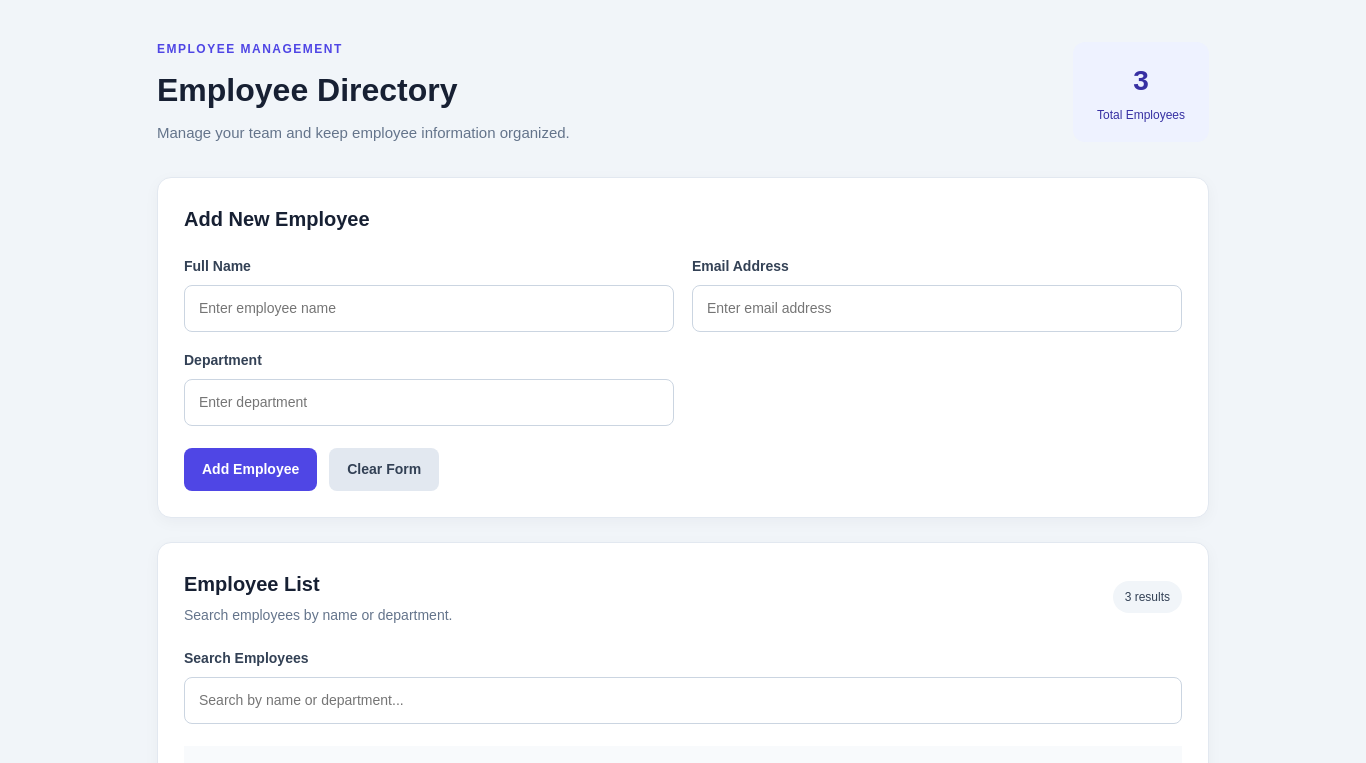
Test: Employee Management Application › shows an error for an invalid email address
The width and height of the screenshot is (1366, 763).
Type "Amit Kumar" into the field labelled "Full Name".
click(429, 308); type("Amit Kumar")  # box x1=184 y1=284 x2=674 y2=332
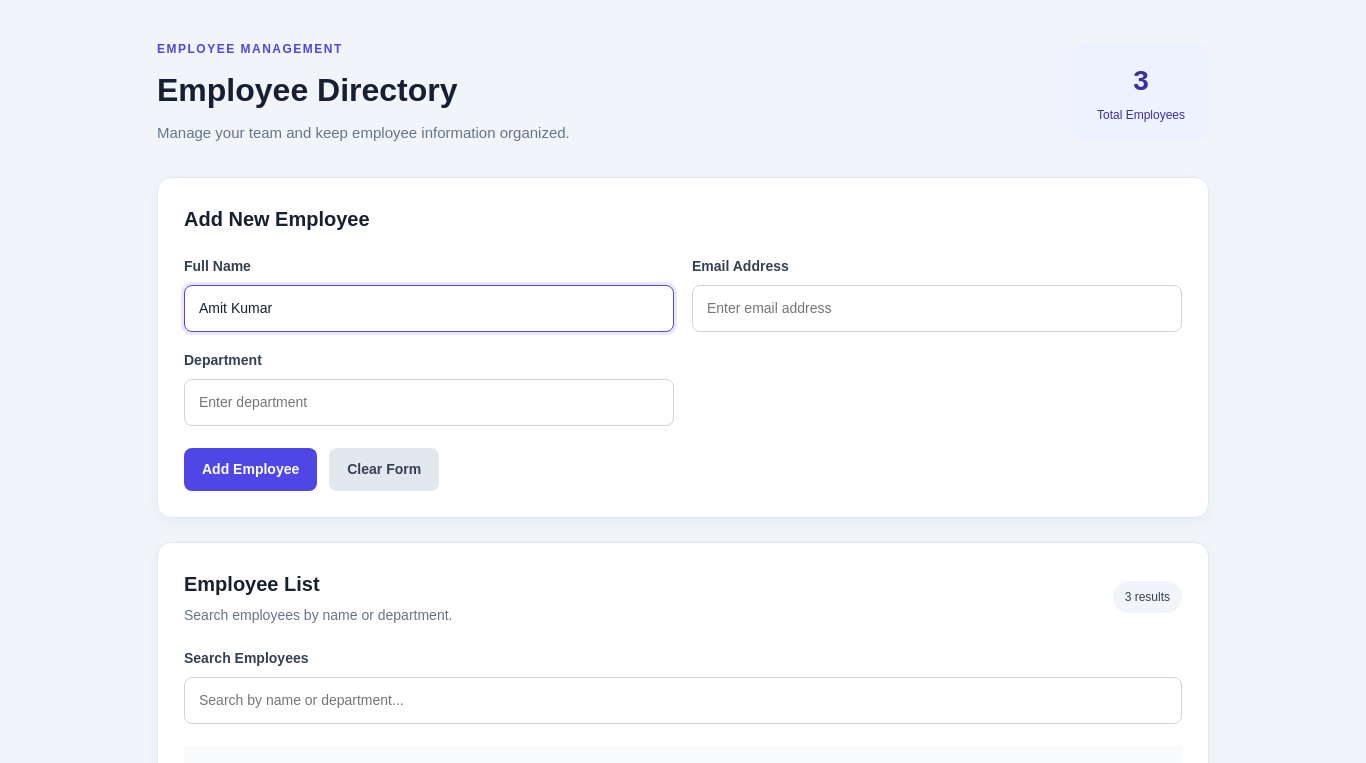
Type "invalid-email" into the field labelled "Email Address".
click(937, 308); type("invalid-email")  # box x1=692 y1=284 x2=1182 y2=332
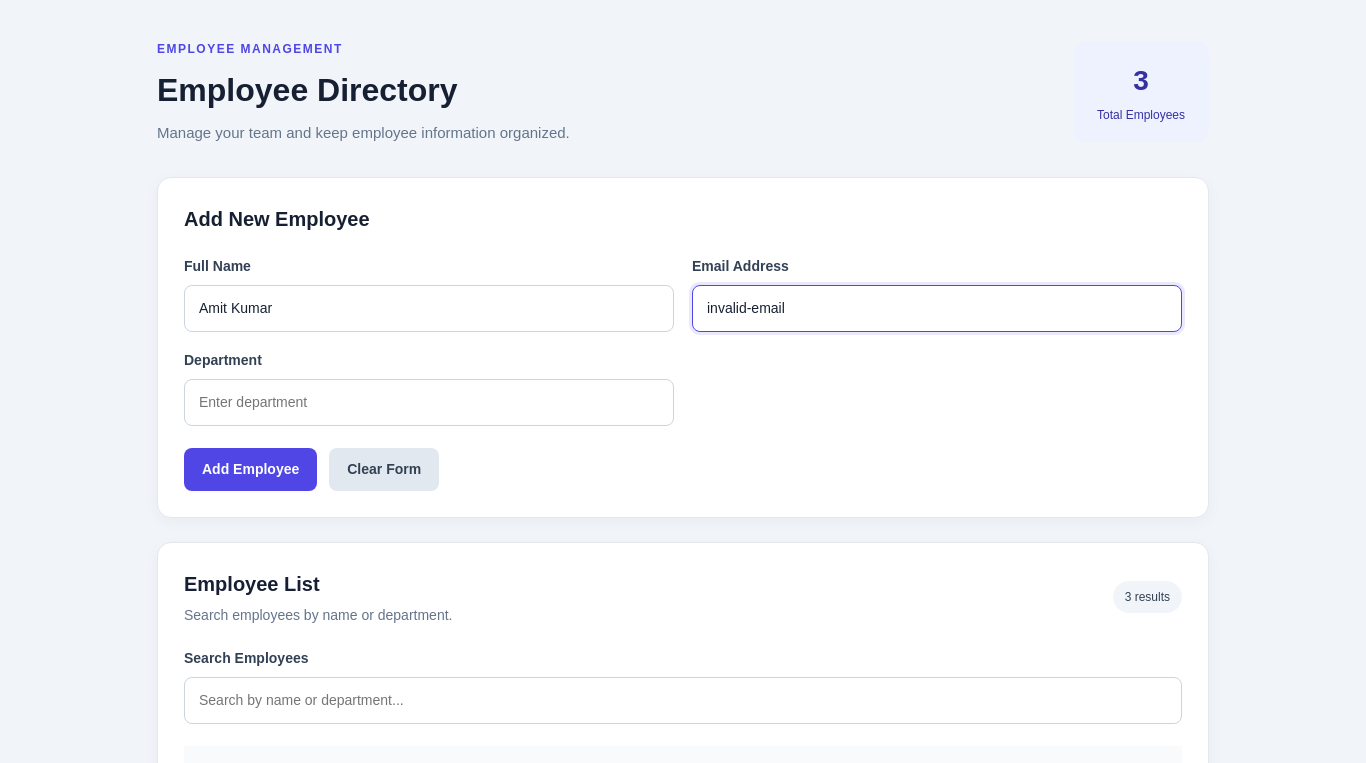
Type "Engineering" into the field labelled "Department".
click(429, 402); type("Engineering")  # box x1=184 y1=378 x2=674 y2=426
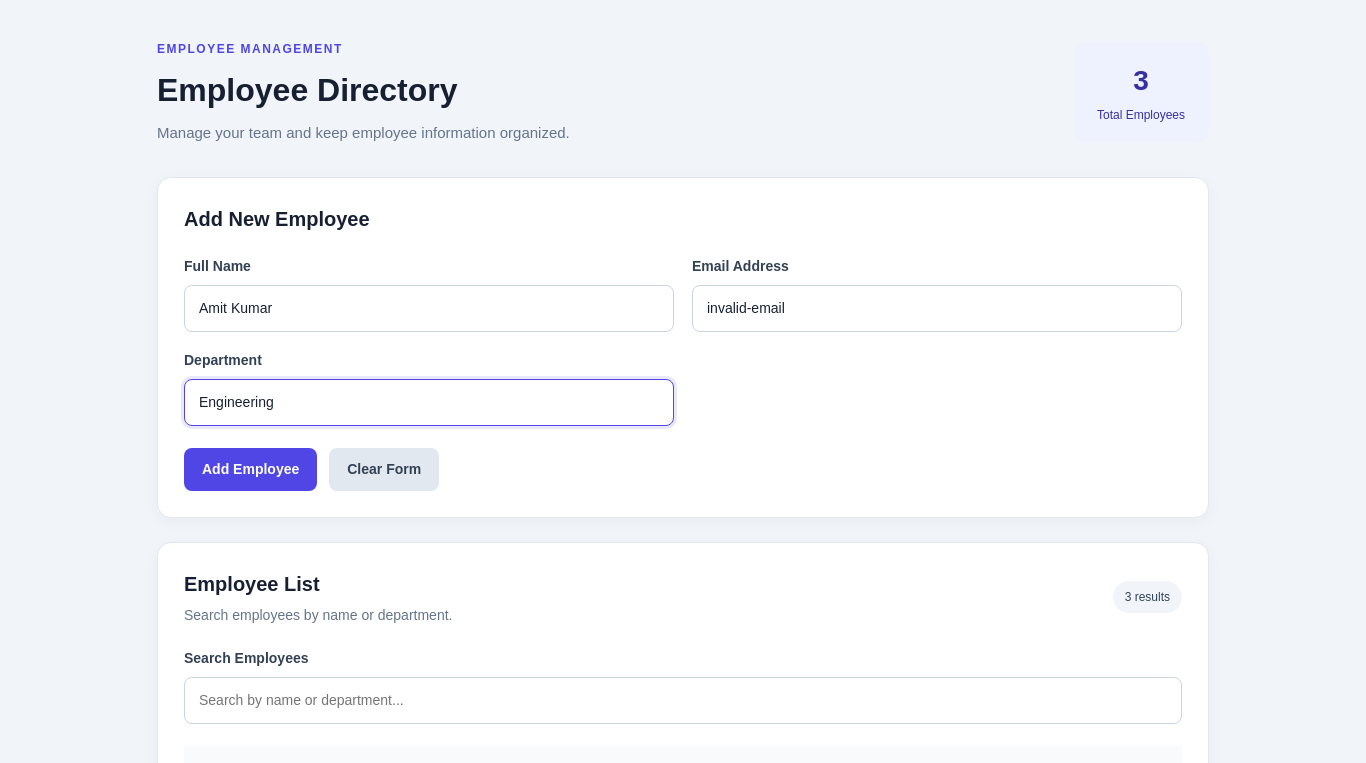
Click the button "Add Employee".
click(251, 469)  # box x1=184 y1=448 x2=317 y2=490
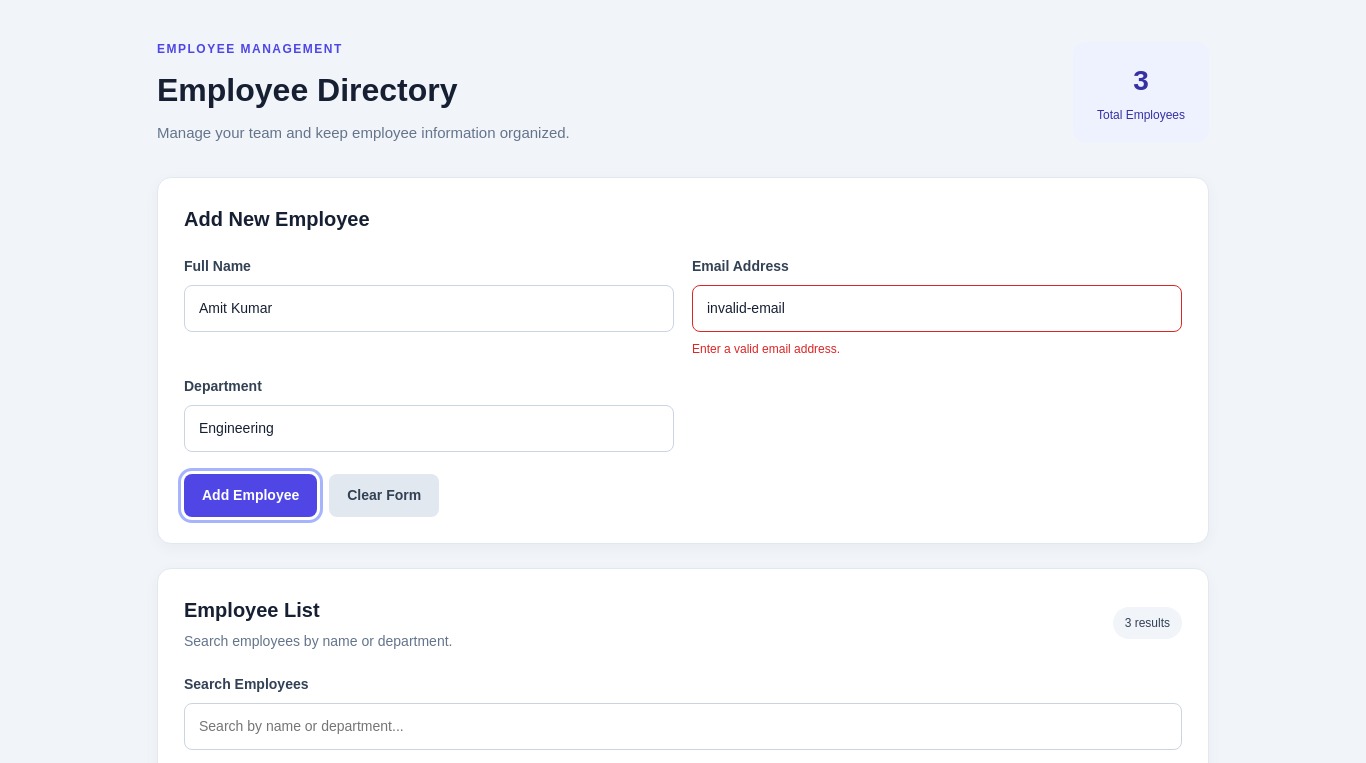
Now the text "Enter a valid email address." is shown, box x1=692 y1=342 x2=840 y2=356
